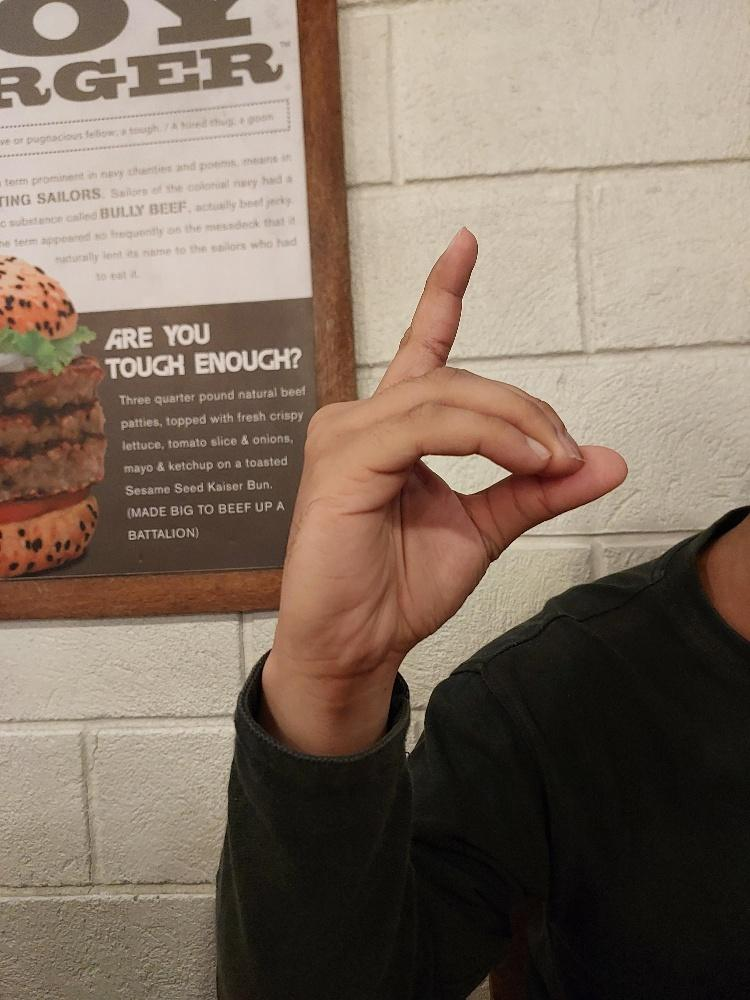d: (270, 223, 630, 678)
